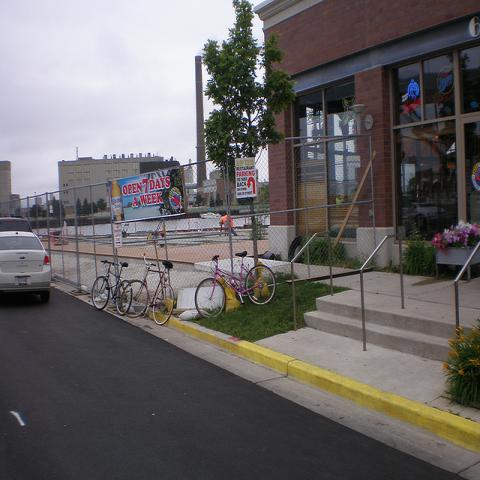car: (0, 232, 53, 304), (1, 216, 34, 232)
